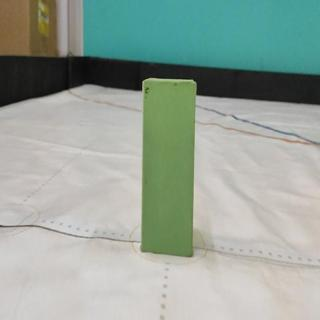greenbox: (141, 77, 196, 259)
